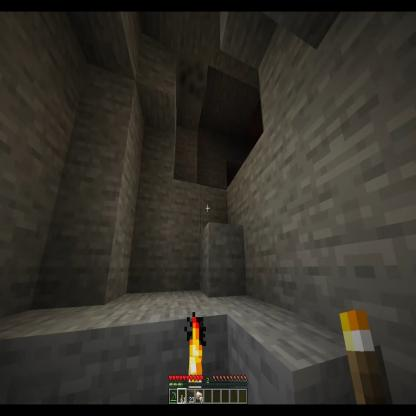coal ore: (176, 54, 207, 108)
